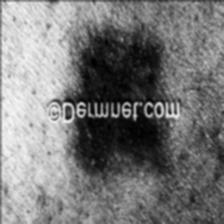Toxin: (64, 11, 188, 90), (72, 122, 172, 175)
